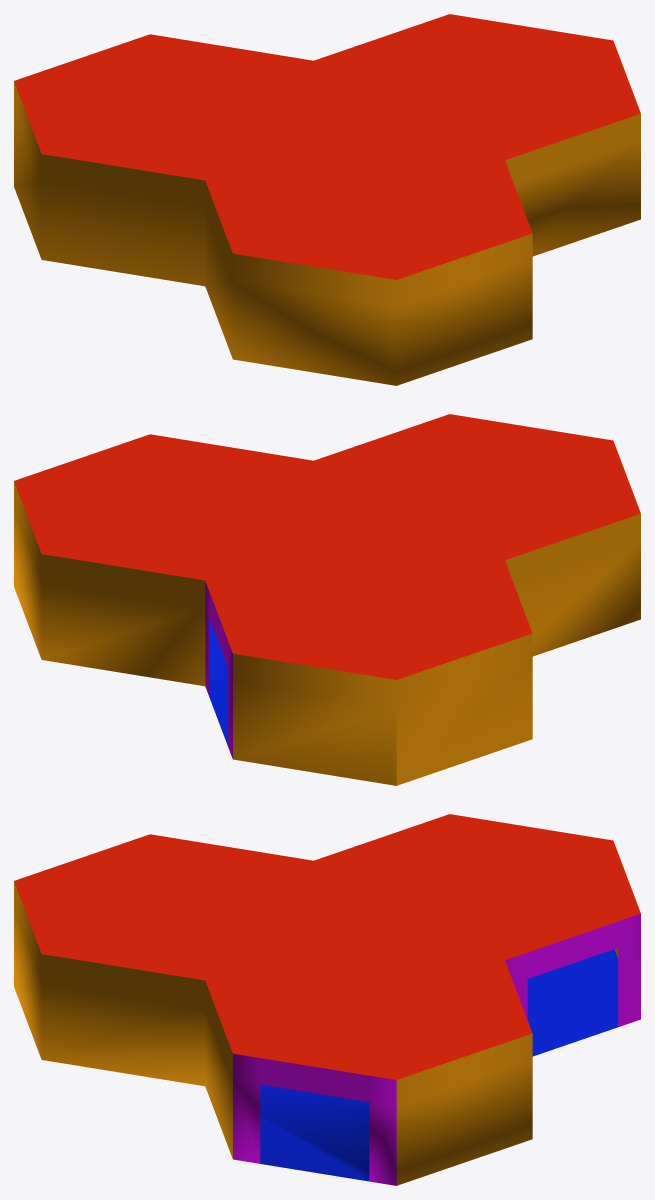
The model's file is FashionRoom.fbx.
3 views of the same model, one above another, from view 1: azimuth 30°, elevation 25°; view 2: azimuth 150°, elevation 25°; view 3: azimuth 270°, elevation 25° (orthographic).
Parts seen in each view (by area): view 1: Museum_complete_Blockout:FashionRoom; view 2: Museum_complete_Blockout:FashionRoom; view 3: Museum_complete_Blockout:FashionRoom.
Part boxes in pixels (<box>): Museum_complete_Blockout:FashionRoom: <box>14,14,640,385</box>; Museum_complete_Blockout:FashionRoom: <box>14,414,640,785</box>; Museum_complete_Blockout:FashionRoom: <box>14,814,640,1185</box>.
Bounding box in the file's own units: 7394 × 1372 × 7365.
